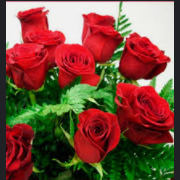RedRose: (116, 80, 175, 145), (119, 27, 172, 80), (72, 107, 120, 164), (6, 41, 47, 90), (6, 125, 40, 180), (55, 45, 101, 83), (82, 9, 114, 48), (85, 26, 115, 65), (15, 5, 47, 37), (35, 32, 64, 66)
